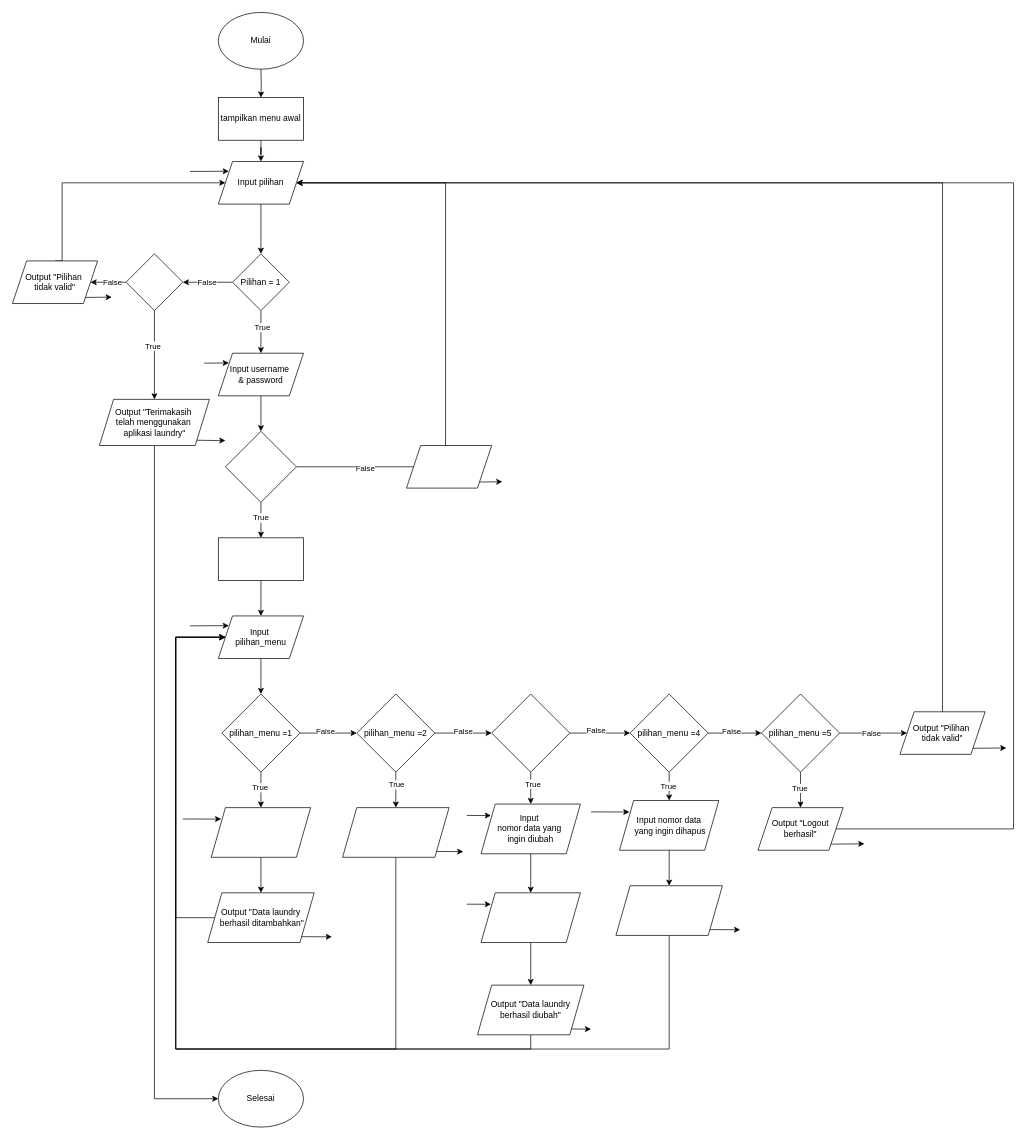
Some shapes in this 1032 by 1140 pixel diagram are drawn without their labels. The shapes that lost their labels are listed below. From the top down, each one's centre as x and y in pixels, then its label:
[154,282]: Pilihan = 2
[260,466]: username & password benar
[449,466]: Output "Login gagal "
[261,558]: Tampilkan Menu Laundry
[530,732]: pilihan_menu =3
[261,832]: Input nama customer, jenis laundry, dan berat
[395,832]: Output data laundry
[530,917]: Input nama customer, jenis, berat, dan status
[668,910]: Output "Data laundry berhasil dihapus "
